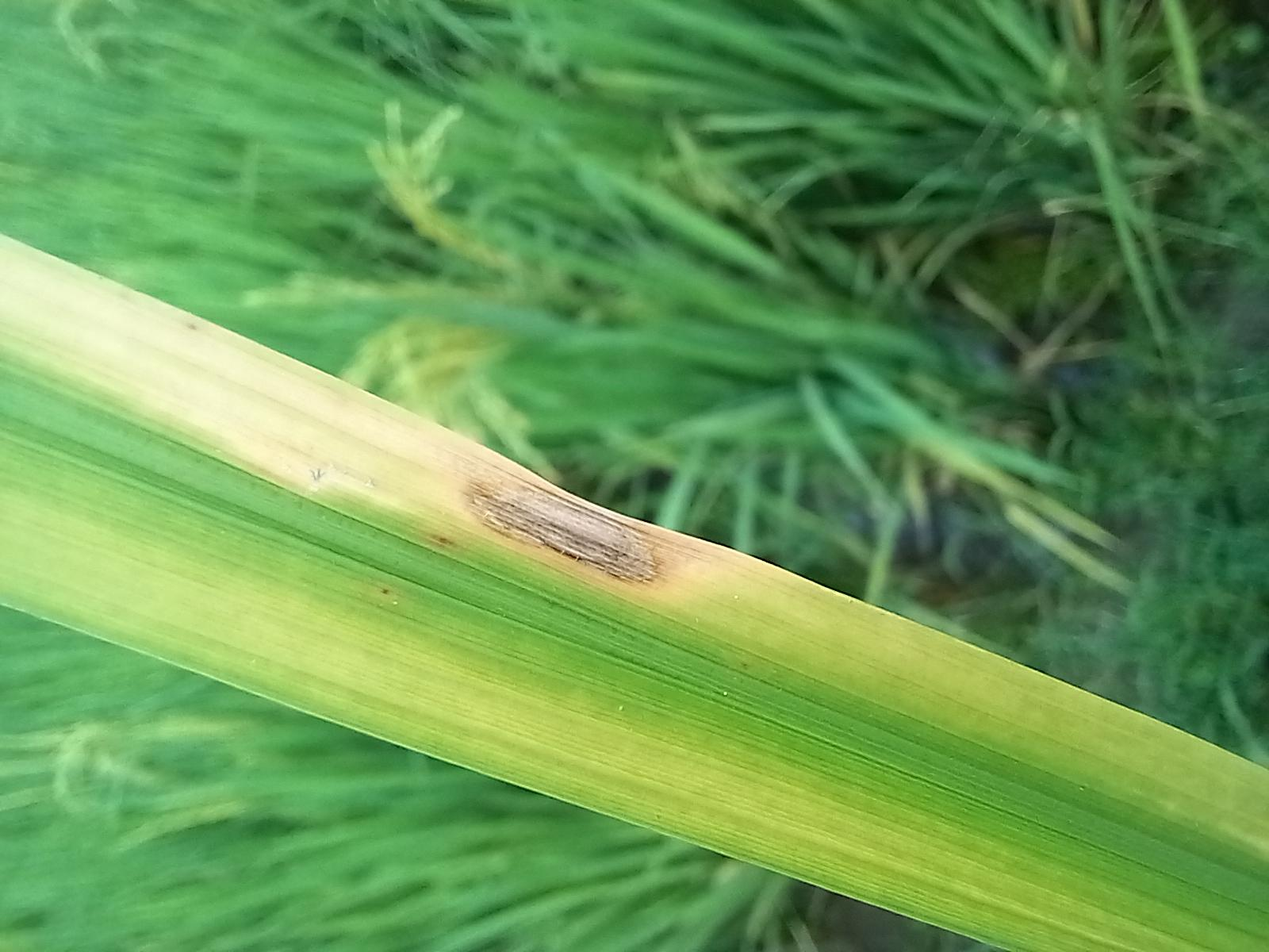LEAF BLAST: (494, 345, 640, 515)
